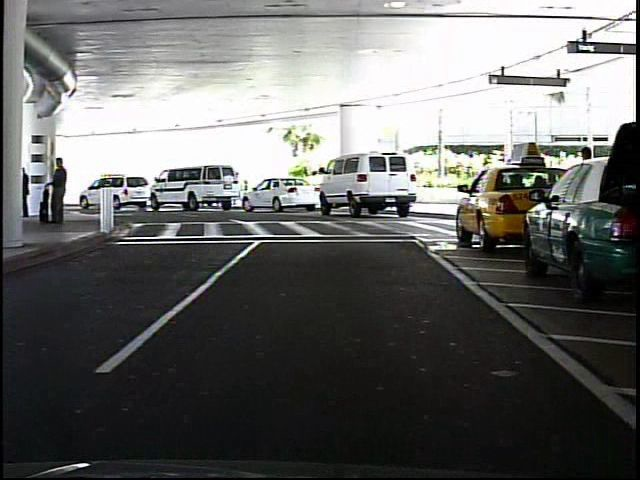person: (571, 142, 598, 241), (52, 156, 71, 226), (239, 170, 254, 209)
